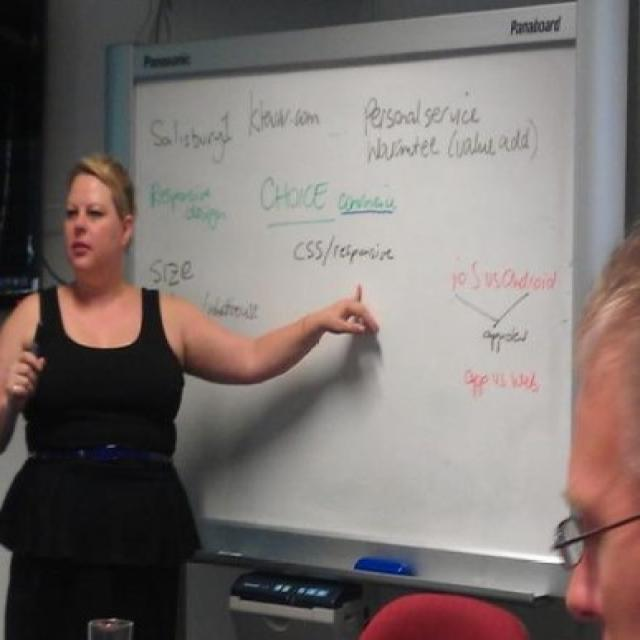Instructor: (29, 151, 202, 595)
White-board: (97, 18, 622, 589)
